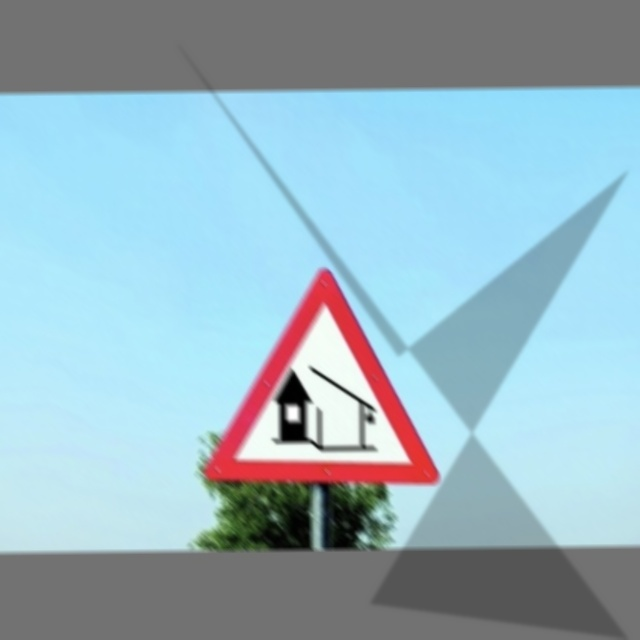Barrier_Ahead: (189, 256, 459, 494)
